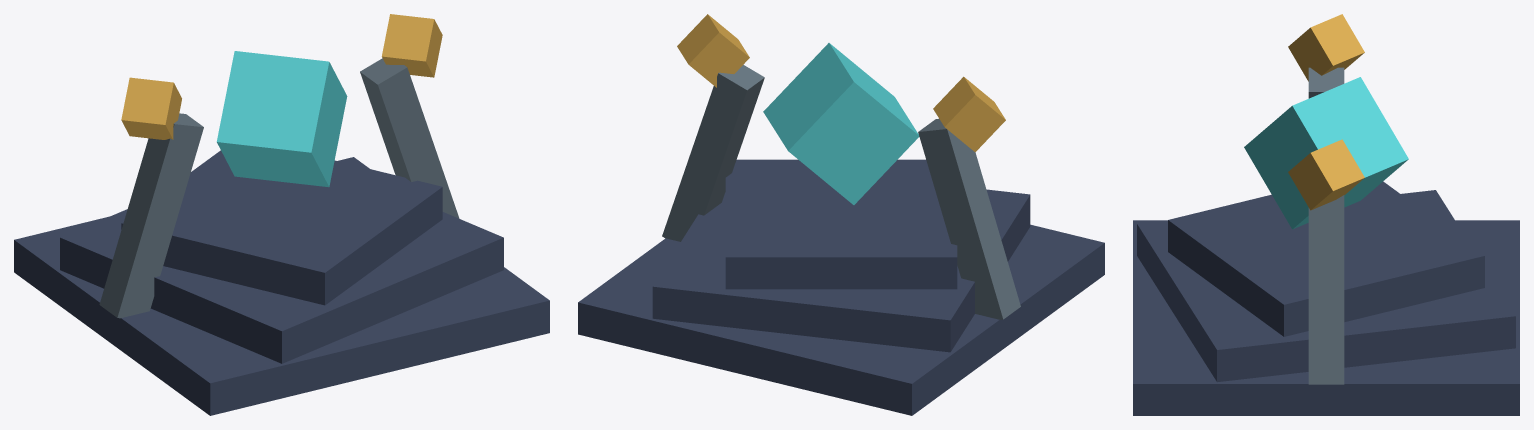
File: AshenShrine.glb
The picture shows the model from 3 angles, left to right: view 1: azimuth 30°, elevation 25°; view 2: azimuth 150°, elevation 25°; view 3: azimuth 270°, elevation 25°; orthographic projection.
Visible parts, largest first — view 1: AshenShrine; view 2: AshenShrine; view 3: AshenShrine.
Boxes of the visible parts, bbox=[...] form: AshenShrine: bbox=[14, 14, 549, 415]; AshenShrine: bbox=[578, 14, 1104, 415]; AshenShrine: bbox=[1133, 14, 1519, 415].
Bounding box in the file's own units: 6.13 × 4.29 × 6.
